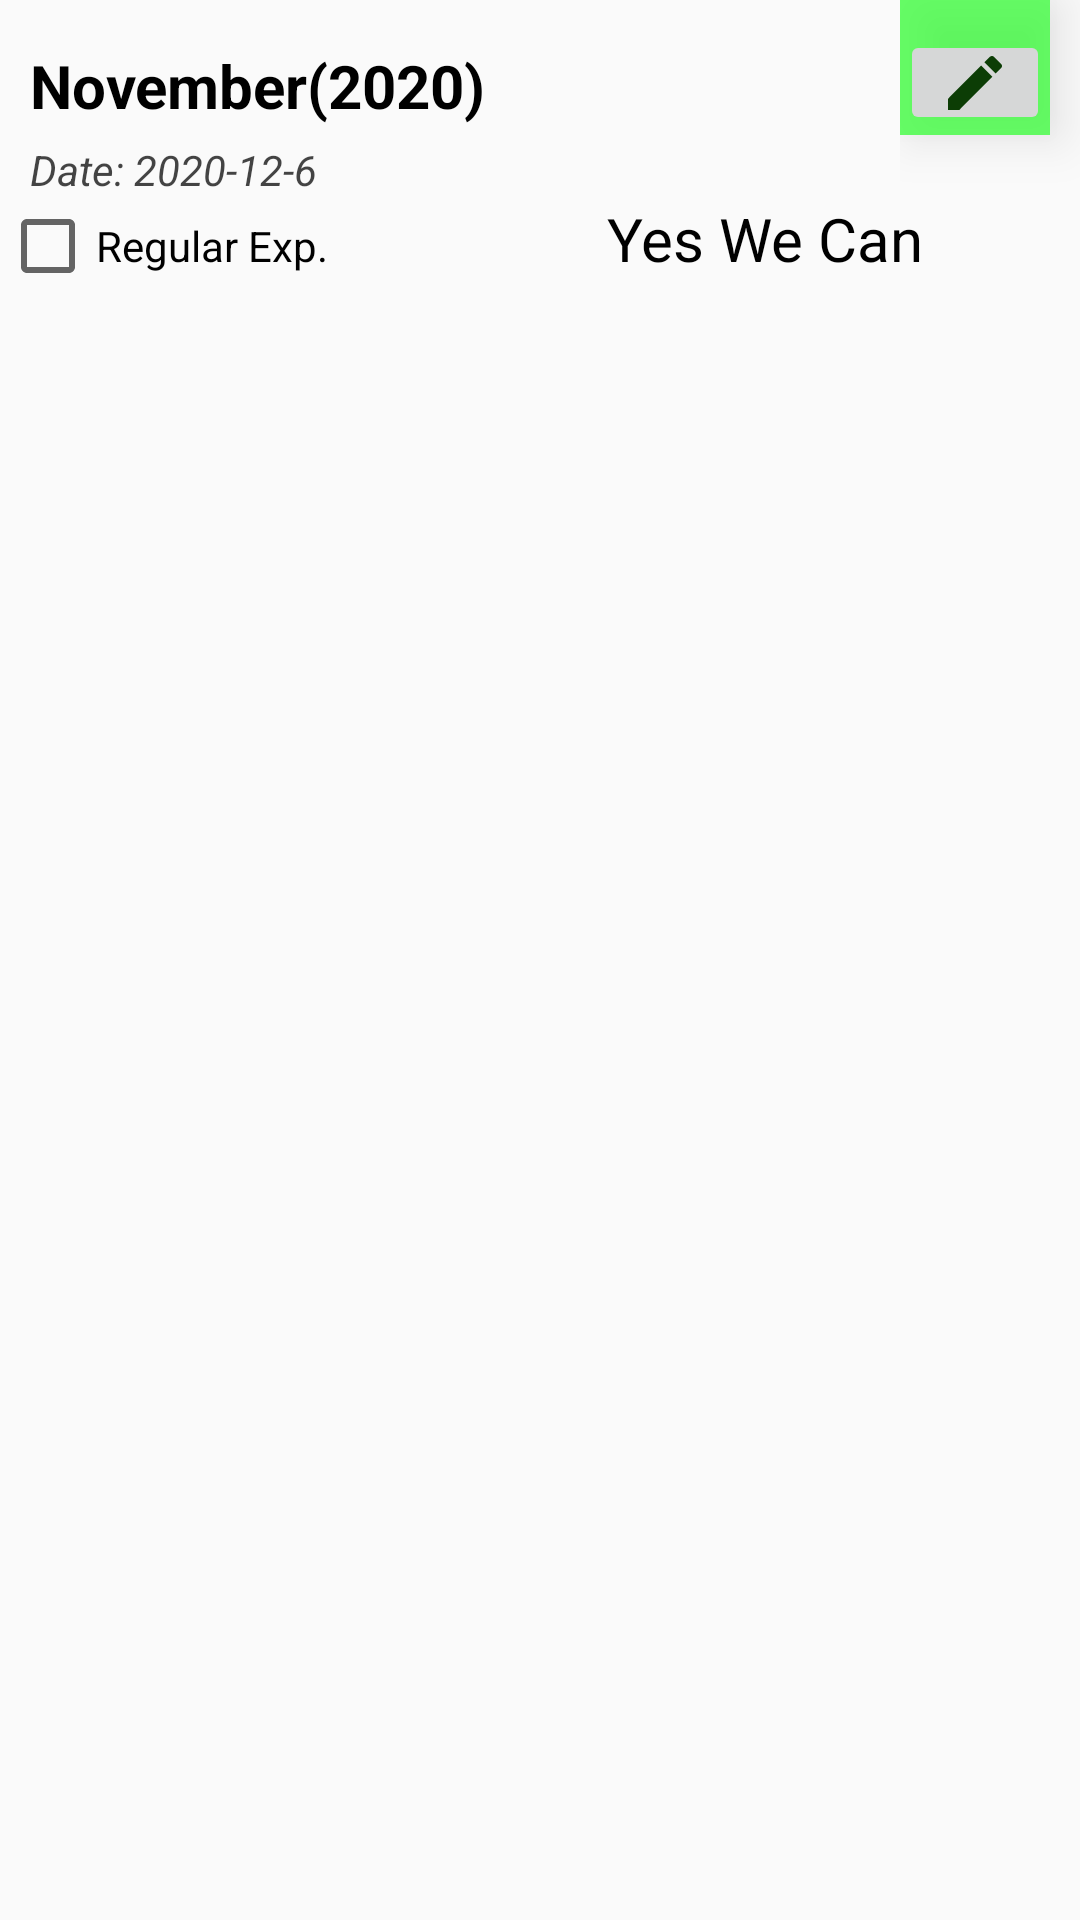

Icons on this 1080x1920 Android screen, each with the point to tap as (x=x, y=y):
edit: (x=975, y=82)
